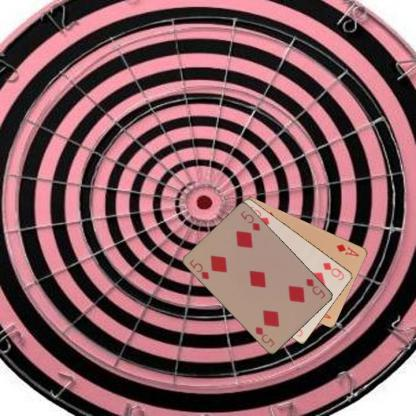5d: (187, 257, 211, 282), (303, 276, 327, 300)
6d: (320, 260, 346, 282)
Ad: (334, 241, 361, 258)
